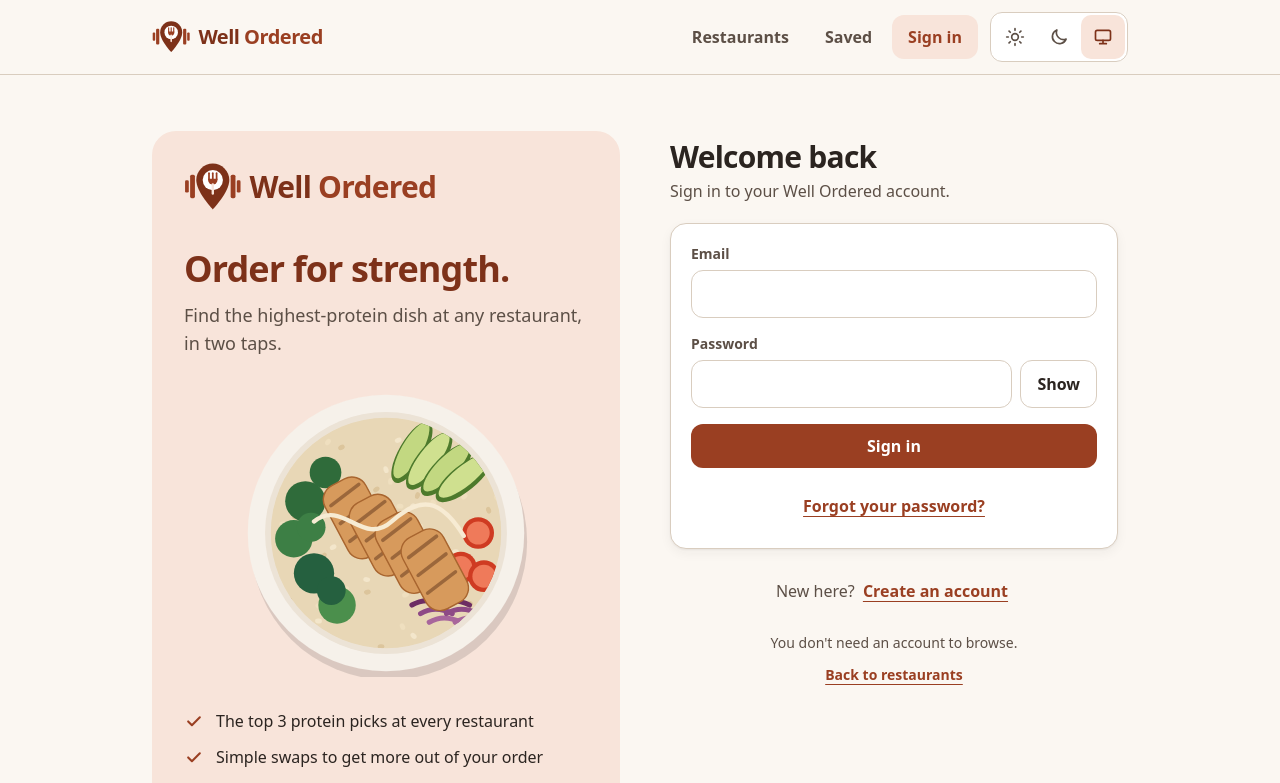
login screen › creates an account and asks them to check their email
The width and height of the screenshot is (1280, 783).
Click the button "Create an account": (935,591) [859,569,1012,613]
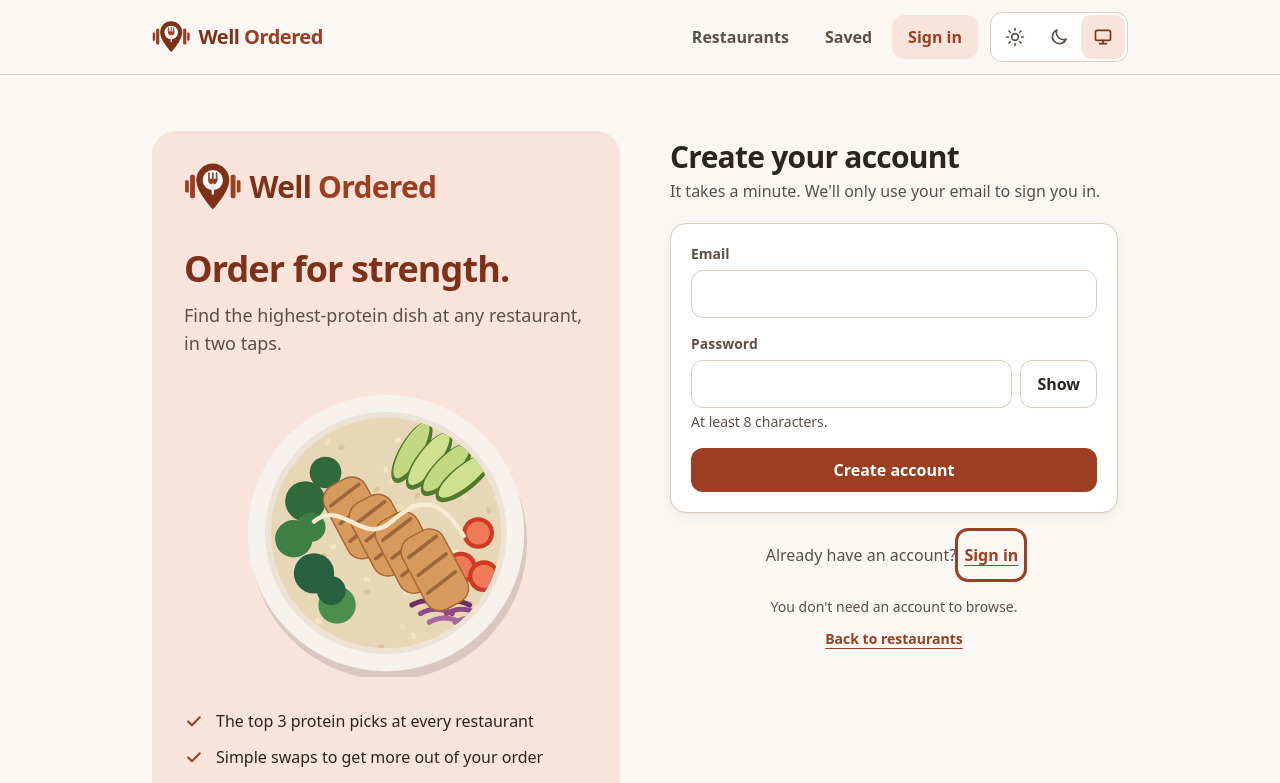
Expected: the heading "Create your account" is shown, [670,136,959,177]
Expected: the text "At least 8 characters." is shown, [691,412,828,431]
In the field labelled "Email": (894,294) [691,270,1097,318], type "new@example.com"
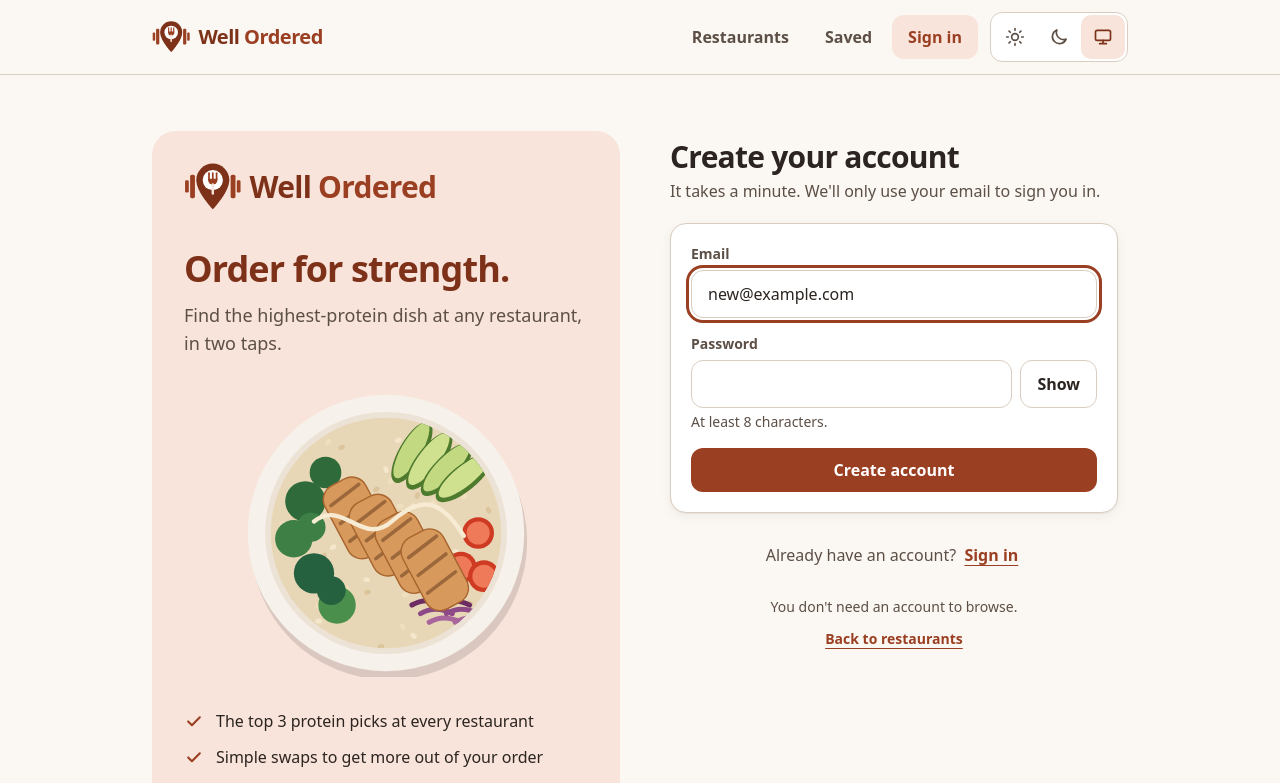
In the password field labelled "Password": (852,384) [691,360,1012,408], type "long-enough-1"
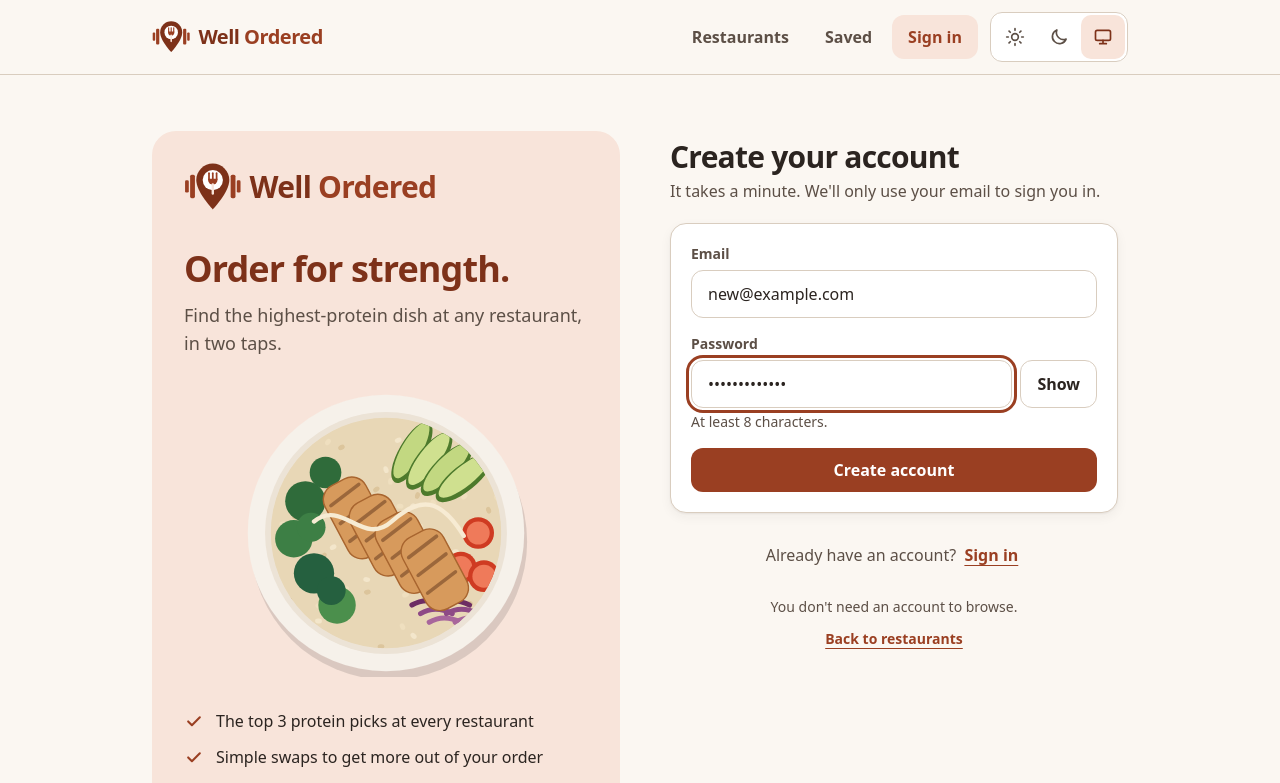
Click the button "Create account": (894,470) [691,448,1097,492]
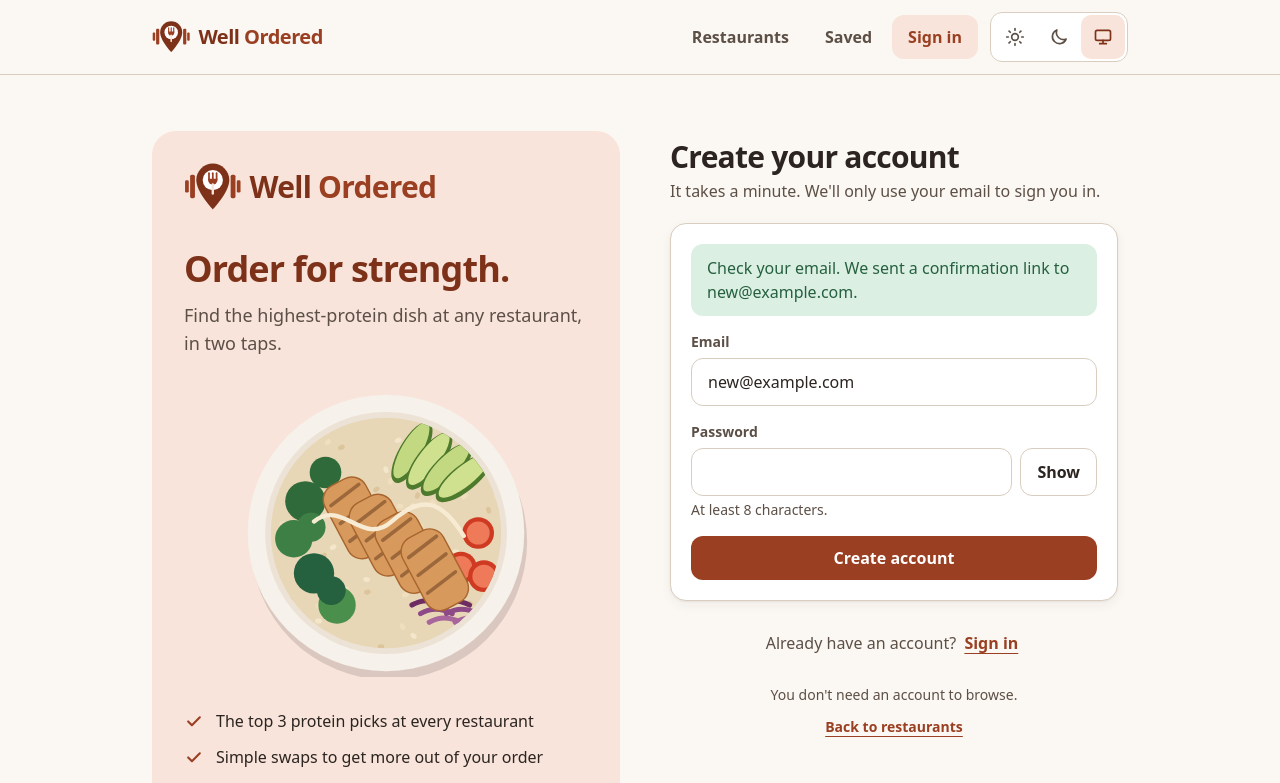
Expected: the message shows "Check your email", [707,257,1069,303]
Expected: the message shows "new@example.com", [707,257,1069,303]
